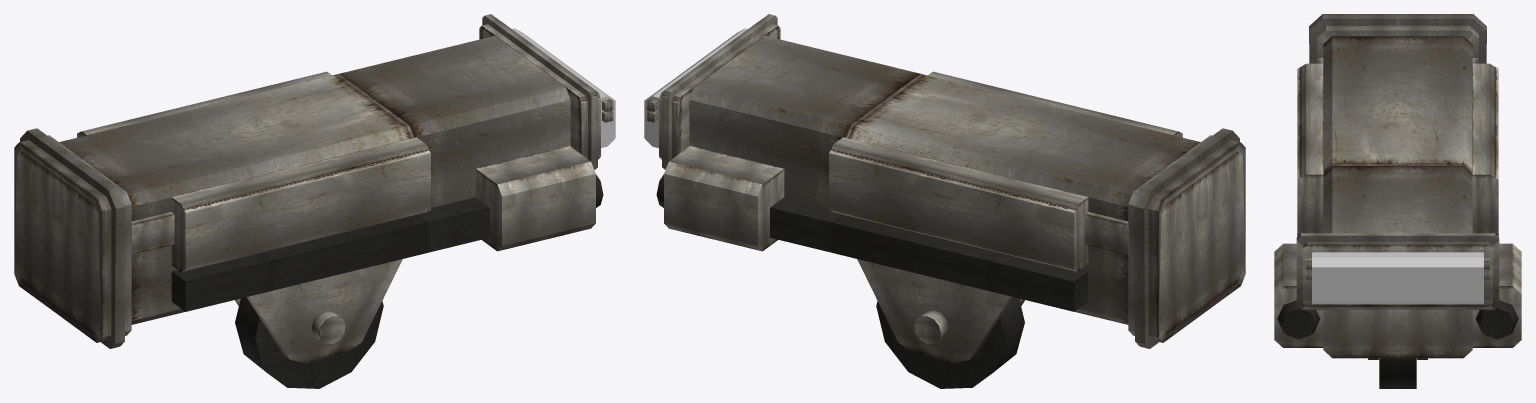
File: SM_Beam_Machine_01.FBX
3 views of the same model, side by side, from view 1: azimuth 30°, elevation 25°; view 2: azimuth 150°, elevation 25°; view 3: azimuth 270°, elevation 25° (orthographic). The views are drawn at different scales.
Visible parts, largest first — view 1: SM_Beam_Machine_01; view 2: SM_Beam_Machine_01; view 3: SM_Beam_Machine_01.
Boxes of the visible parts, x1,y1,x2,y2 form: SM_Beam_Machine_01: [14, 14, 615, 388]; SM_Beam_Machine_01: [644, 14, 1245, 388]; SM_Beam_Machine_01: [1274, 14, 1521, 388].
Bounding box in the file's own units: 1.85 × 0.9653 × 0.833.
